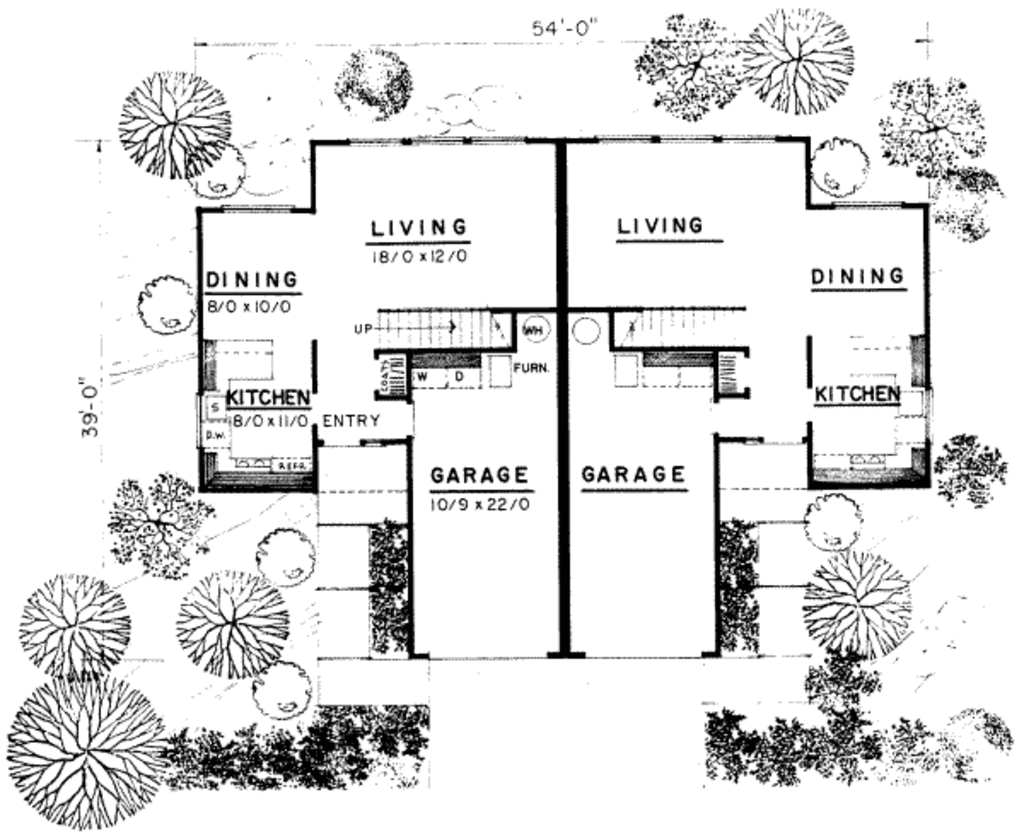stairs: (356, 300, 518, 352), (609, 298, 754, 346)
window: (220, 200, 304, 220), (826, 198, 911, 216), (408, 124, 467, 149), (467, 122, 515, 152), (655, 127, 715, 149), (719, 125, 773, 148), (345, 132, 411, 146), (590, 131, 657, 144)
